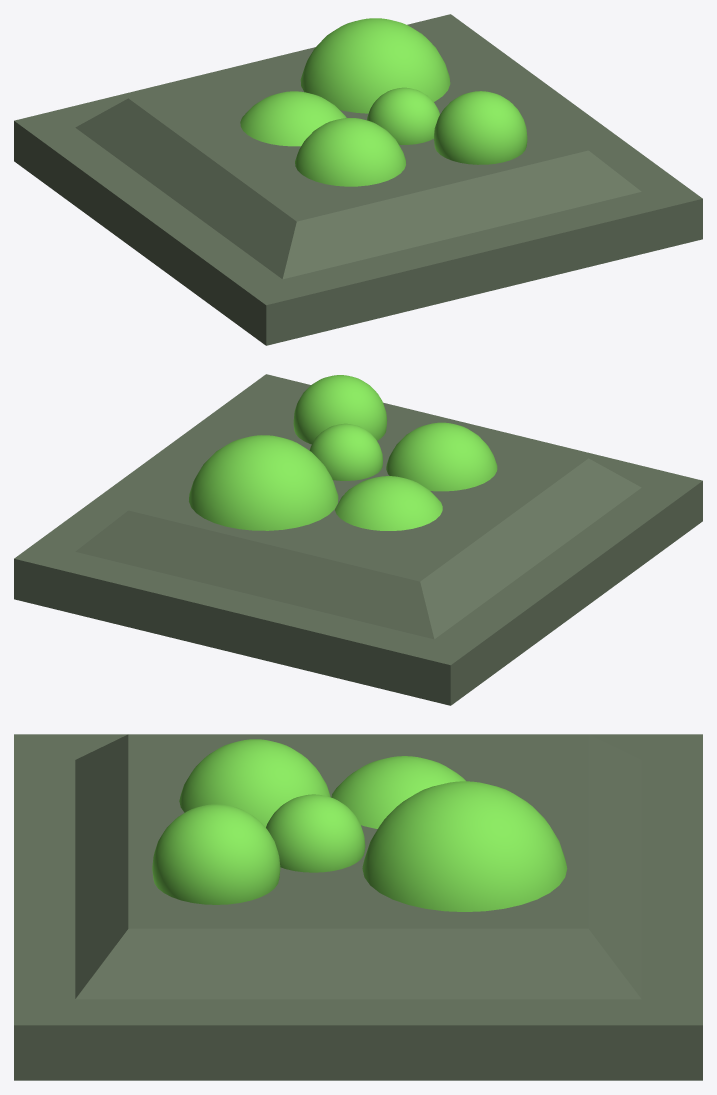
The model's file is AcidPoolTrap.fbx.
3 renders of one model, top to bottom at view 1: azimuth 30°, elevation 25°; view 2: azimuth 150°, elevation 25°; view 3: azimuth 270°, elevation 25°, orthographic. The views are drawn at different scales.
Visible parts, largest first — view 1: Cube, Sphere; view 2: Cube, Sphere; view 3: Cube, Sphere.
Boxes of the visible parts, <box> form: Cube: <box>14,14,702,345</box>; Sphere: <box>240,18,527,186</box>; Cube: <box>14,374,702,705</box>; Sphere: <box>189,375,497,530</box>; Cube: <box>14,734,702,1080</box>; Sphere: <box>152,739,567,911</box>.
Bounding box in the file's own units: 200 × 58.16 × 200.
